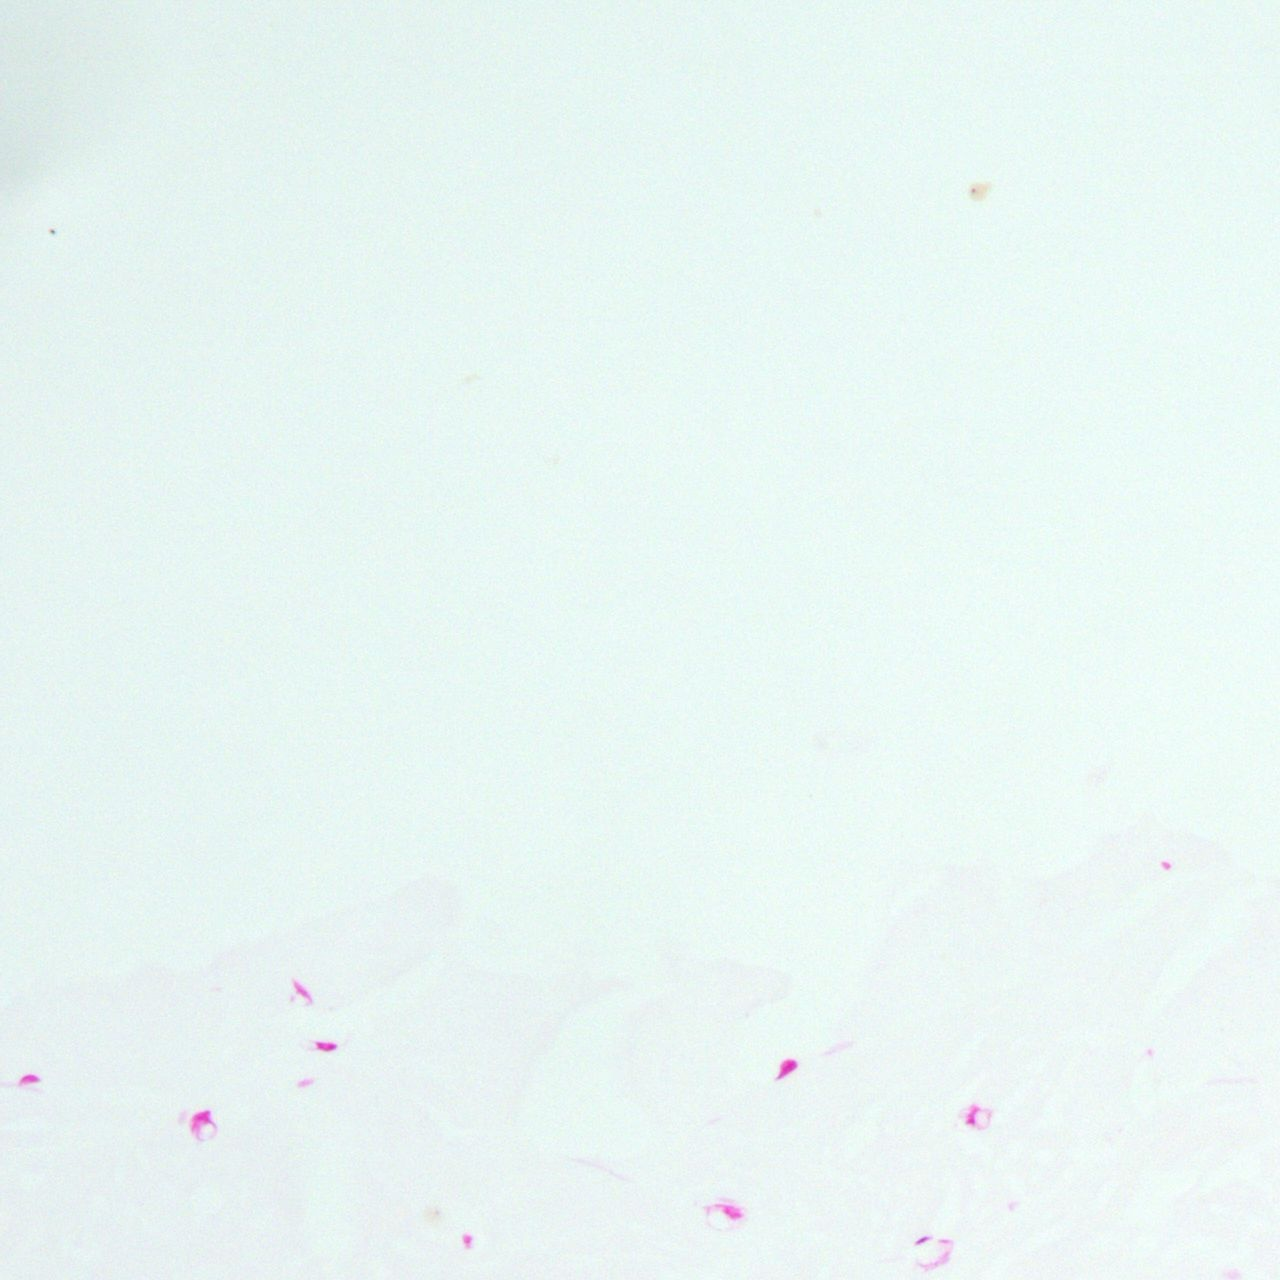dust: (968, 182, 990, 200), (49, 229, 55, 234)
nucleus-FG: (769, 1055, 799, 1082), (15, 1070, 41, 1085), (315, 1039, 339, 1050)
